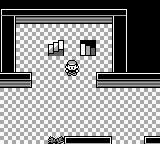main: (65, 61, 80, 75)
no-caminable: (0, 0, 159, 72), (14, 10, 112, 23), (113, 10, 127, 73), (1, 10, 15, 72), (97, 74, 159, 87), (0, 73, 31, 87), (65, 137, 111, 143), (145, 136, 160, 144), (48, 137, 64, 143)
puerta: (48, 39, 64, 55), (80, 40, 96, 55)
